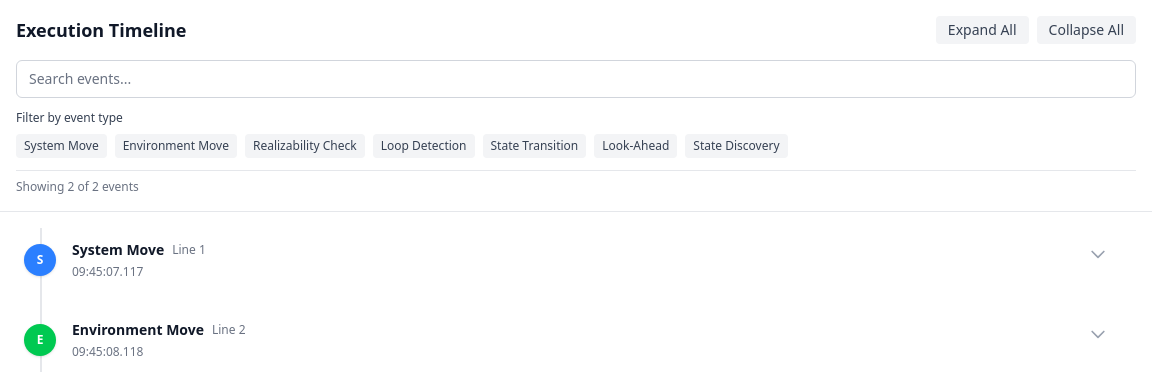
it: Timeline Component › should clear filters when clear button is clicked
This screenshot has width=1152, height=389.
# Apply a filter
Click the button "System Move" at (61, 146), box left=16, top=134, right=107, bottom=158
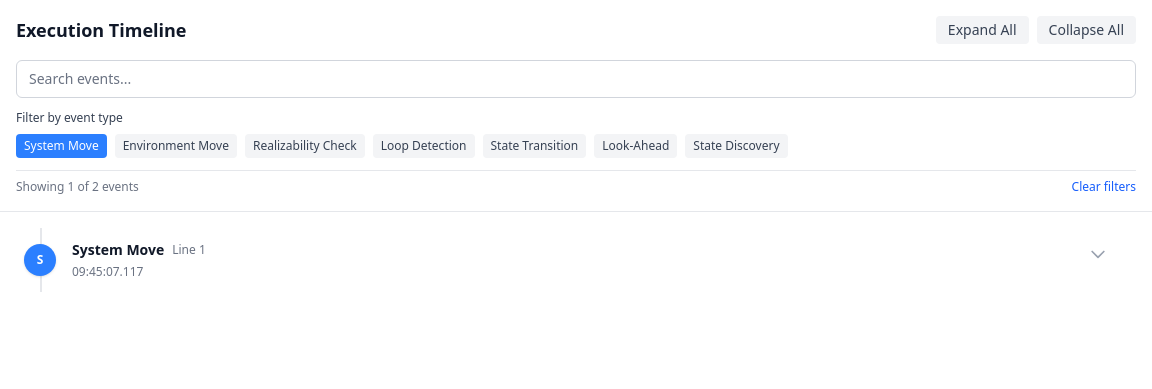
# Clear filters
Click the button "Clear filters" at (1104, 187), box left=1072, top=179, right=1136, bottom=195
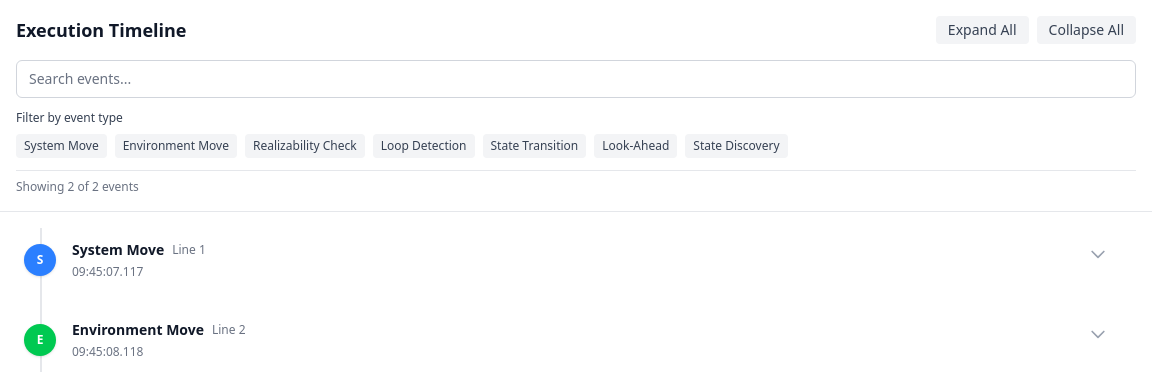
Expected: the text "Showing 2 of 2 events" is shown, left=16, top=179, right=139, bottom=195
